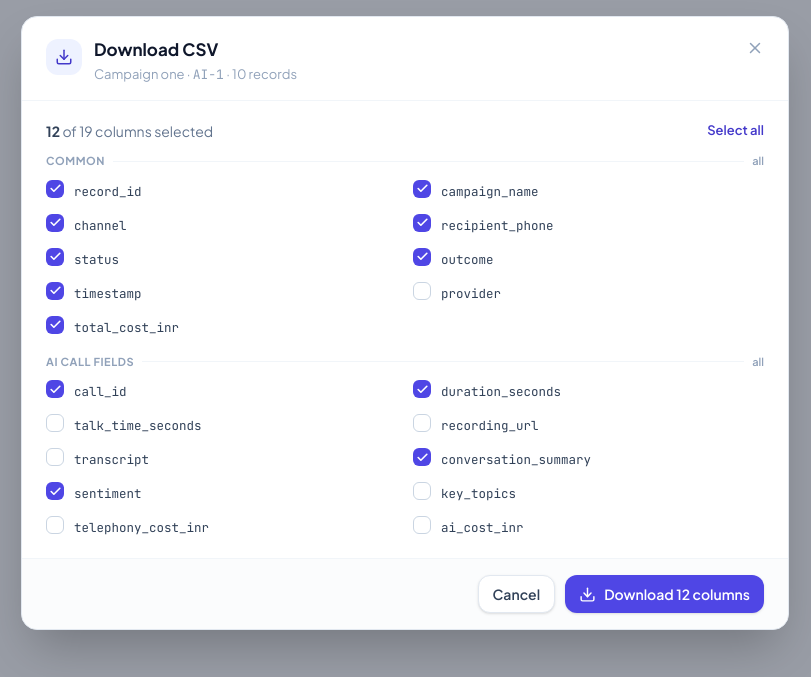
Test: DownloadModal › names the shortfall when the served revision is short of upstream
This screenshot has width=811, height=677.
Click the button "Download 12 columns" at (665, 594), box [565,575,764,613]
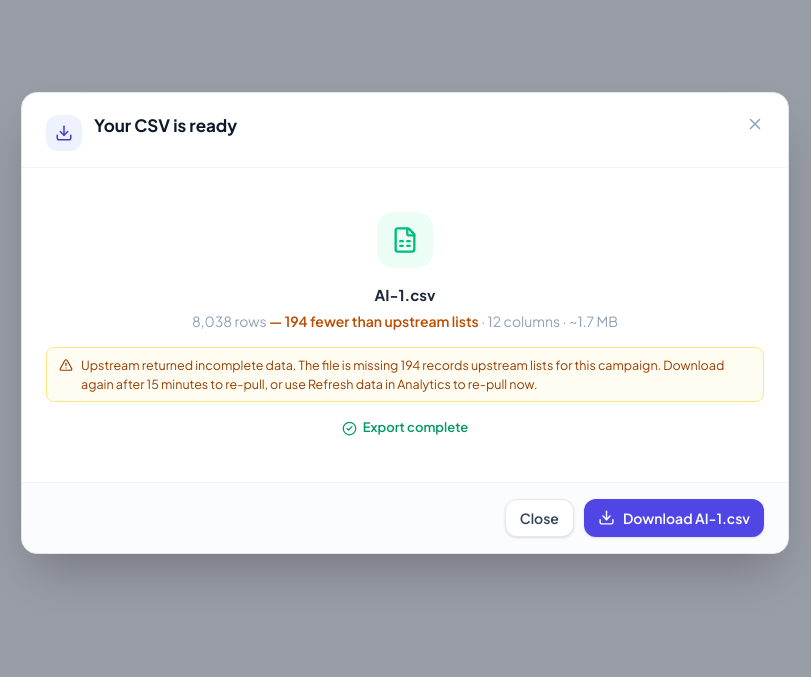
Expected: the text "— 194 fewer than upstream lists" is shown, [266,312,479,330]
Expected: the element with test id "download-row-count" shows "8,038 rows", [192,311,618,331]
Expected: the message shows "Upstream returned incomplete data. The file is missing 194 records upstream lists for this campaign.", [46,347,764,402]
